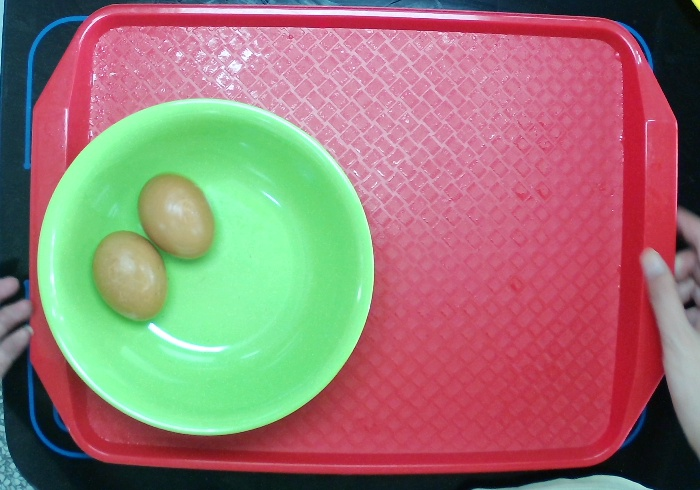YKMZ-Lv_Se_Tang_Wan: (32, 94, 378, 444)
